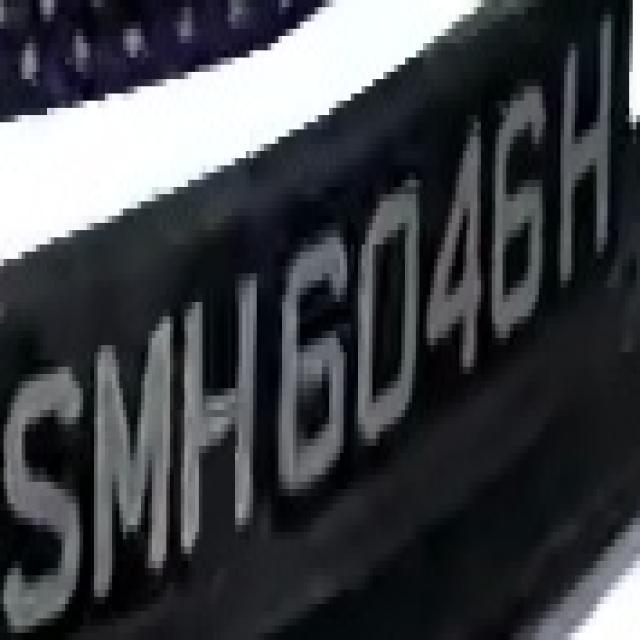0: (358, 172, 434, 468)
4: (416, 136, 488, 402)
6: (278, 230, 354, 503), (481, 72, 550, 345)
H: (174, 266, 260, 568), (553, 21, 629, 288)
M: (94, 295, 184, 597)
S: (3, 331, 86, 640)
